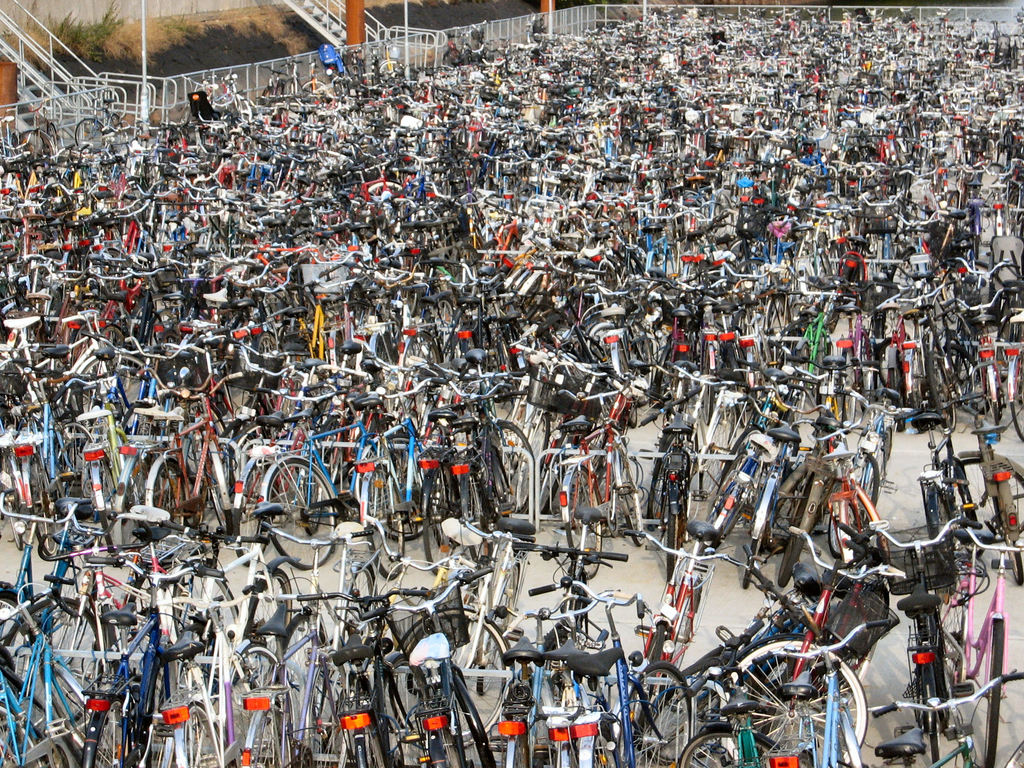Bicycle: (0, 3, 1023, 767), (938, 526, 1023, 767)
